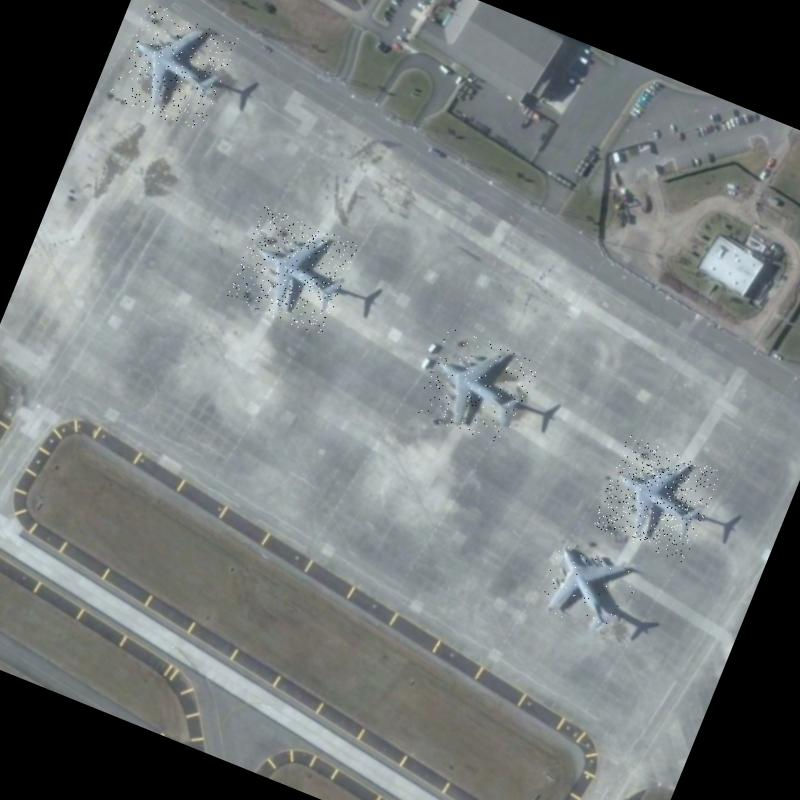A3: (108, 0, 240, 134), (226, 204, 358, 336), (590, 434, 722, 564), (414, 325, 540, 450), (530, 532, 647, 642)
